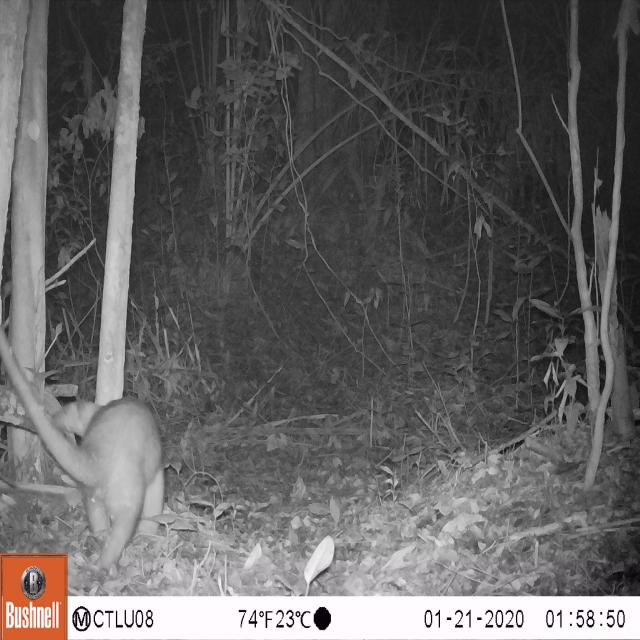Giant Anteater: (0, 305, 173, 595)
